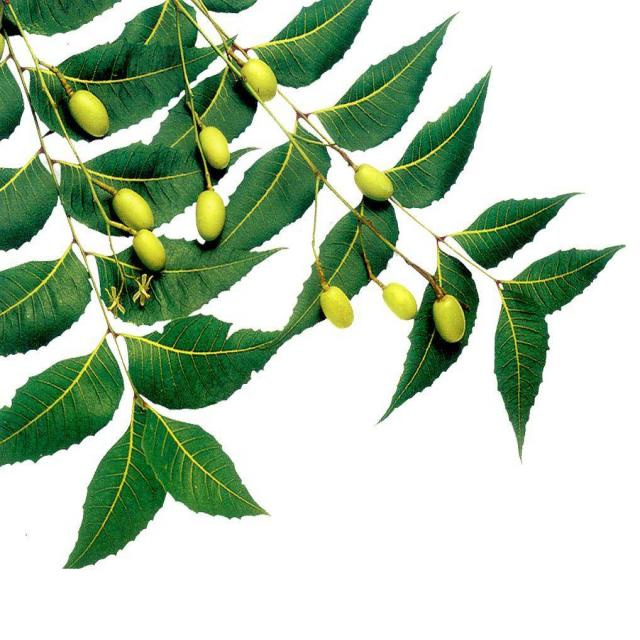Medicinal-Neem: (0, 0, 629, 580)
